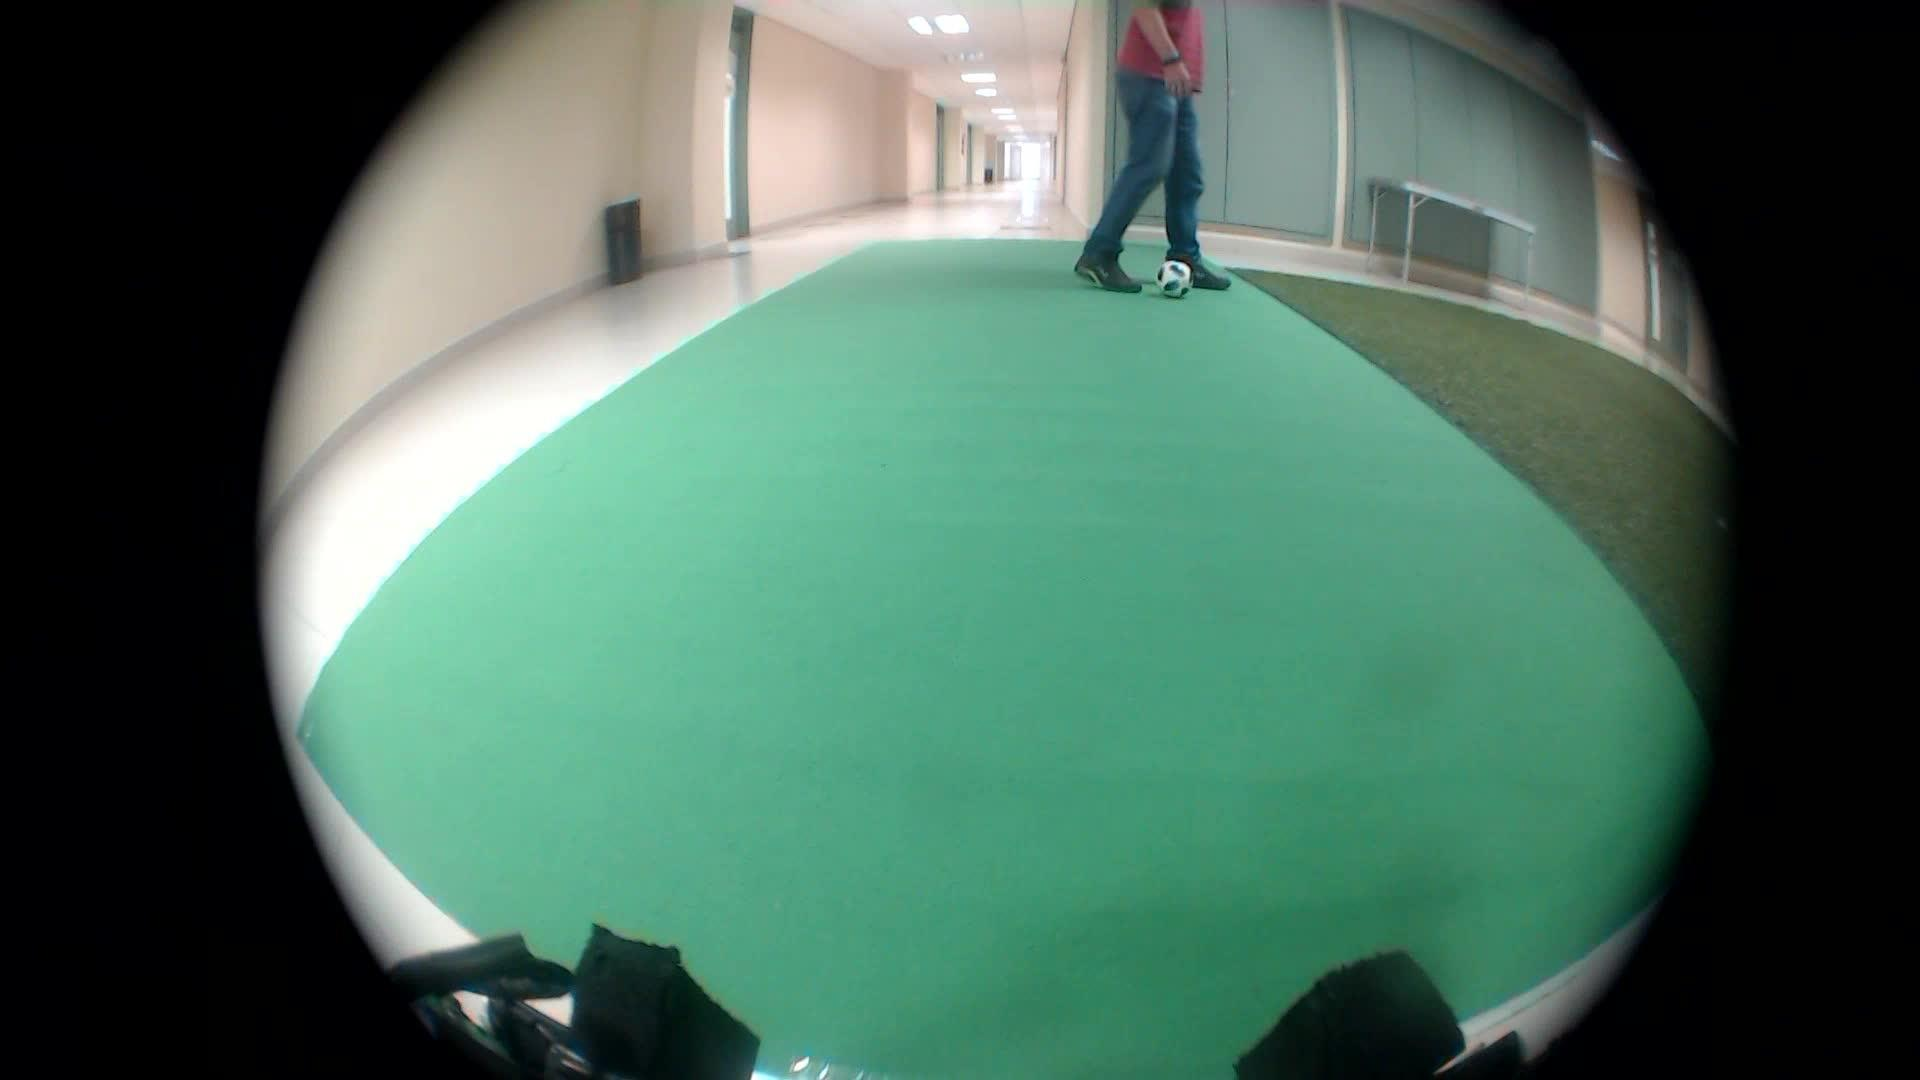ball: (1137, 247, 1192, 301)
